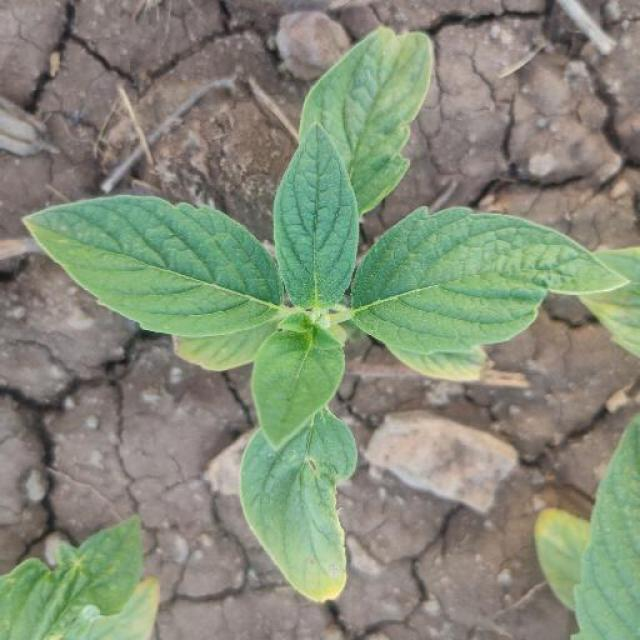crop: (22, 22, 632, 602)
